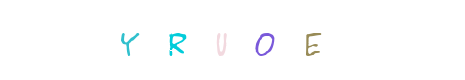E: (271, 0, 351, 80)
O: (225, 0, 305, 80)
R: (156, 0, 236, 80)
U: (192, 0, 272, 80)
Y: (119, 0, 199, 80)
